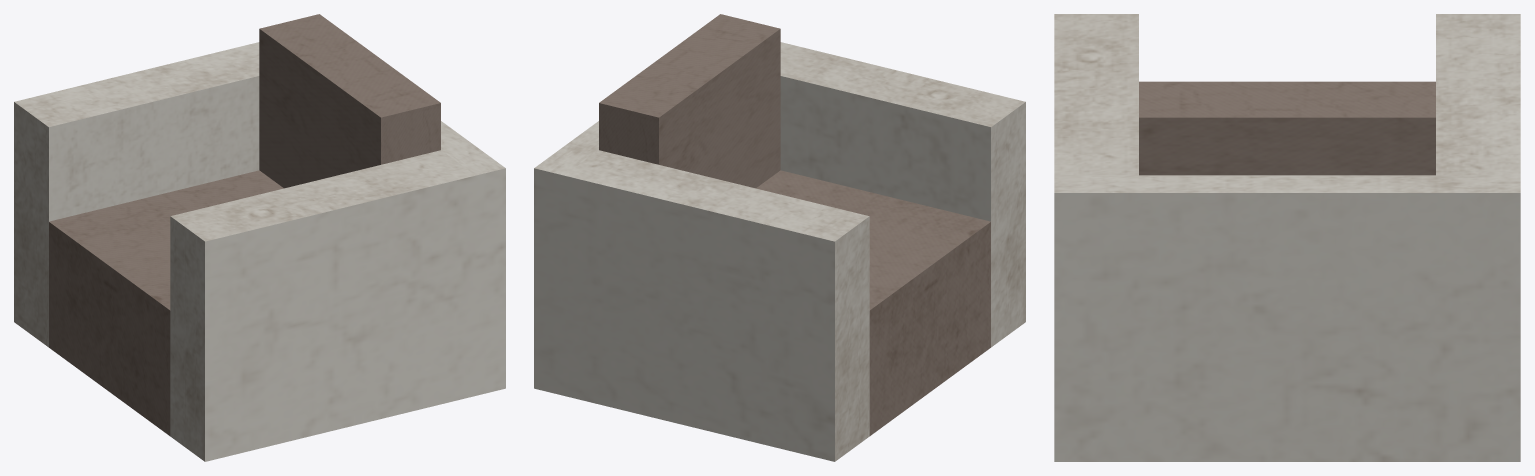
File: couch.fbx
3 renders of one model, left to right at view 1: azimuth 30°, elevation 25°; view 2: azimuth 150°, elevation 25°; view 3: azimuth 270°, elevation 25°, orthographic. The views are drawn at different scales.
Visible parts, largest first — view 1: couch.001; view 2: couch.001; view 3: couch.001.
Part boxes in pixels (box(x1,y1,x2,y2)): couch.001: box(14, 14, 505, 461); couch.001: box(534, 14, 1025, 461); couch.001: box(1054, 14, 1520, 461).
Bounding box in the file's own units: 1.11 × 0.9422 × 1.22.
Materials: 1 (1 with a texture image).
